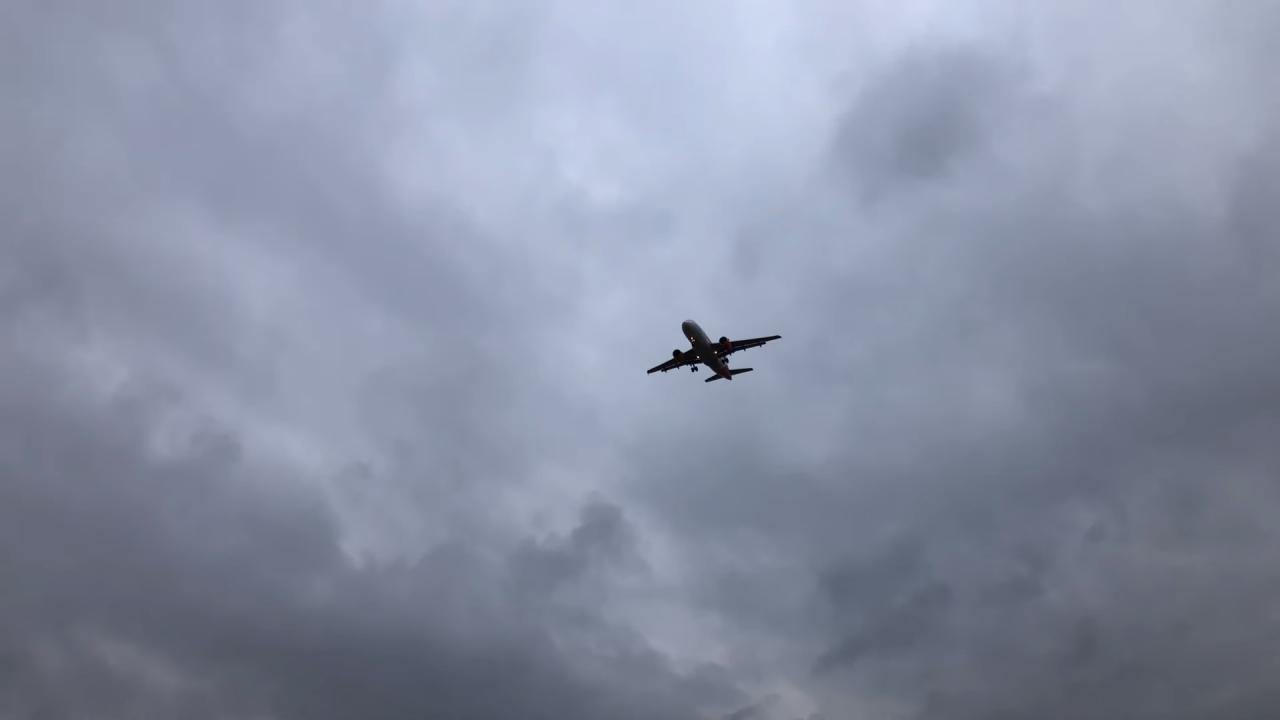Airplane: (638, 305, 793, 390)
